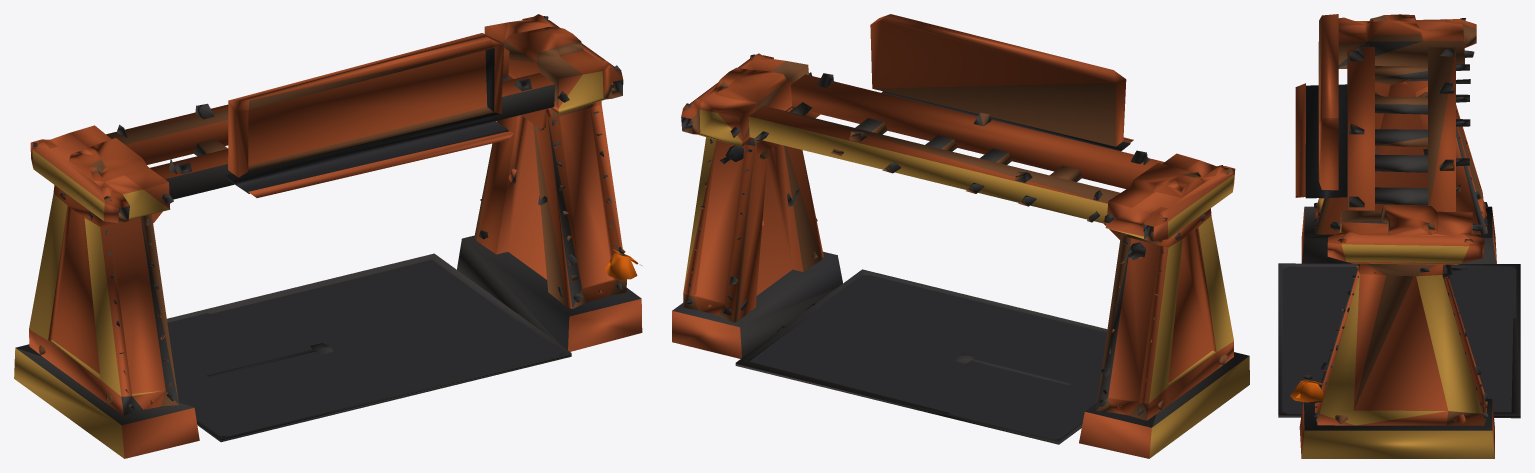
File: poi_weighbridge_gantry_lod1.glb
3 renders of one model, left to right at view 1: azimuth 30°, elevation 25°; view 2: azimuth 150°, elevation 25°; view 3: azimuth 270°, elevation 25°, orthographic. The views are drawn at different scales.
Visible parts, largest first — view 1: WeighbridgeGantry; view 2: WeighbridgeGantry; view 3: WeighbridgeGantry.
Boxes of the visible parts, x1,y1,x2,y2 form: WeighbridgeGantry: [14, 14, 642, 458]; WeighbridgeGantry: [672, 14, 1249, 458]; WeighbridgeGantry: [1278, 14, 1520, 458].
Bounding box in the file's own units: 11.96 × 6.99 × 5.46.
